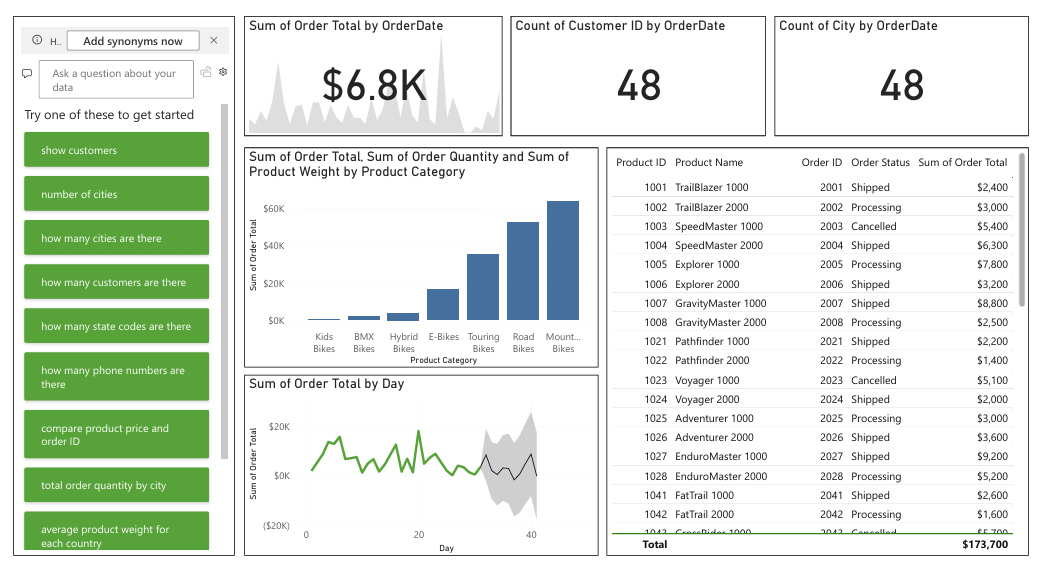

Layout of this report page (visuals, bound fields, positions):
{"tool":"powerbi","page":{"name":"Executive Sales Overview","canvas":[1280,720],"ordinal":0},"visuals":[{"type":"tableEx","fields":{"Values":["Sales.Product ID","Sales.Product Name","Sales.Order ID","Sales.Order Status","Sum(Sales.Order Total)"]},"box":[741.8,199.6,528.5,510.6],"z":0},{"type":"clusteredColumnChart","fields":{"Category":["Sales.Product Category"],"Y":["Sum(Sales.Order Total)"]},"box":[289,199.6,443.2,275.3],"z":1000},{"type":"lineChart","fields":{"Y":["Sum(Sales.Order Total)"],"Category":["Sales.OrderDate.Variation.Date Hierarchy.Day"]},"box":[289,484.5,443.2,225.7],"z":2000},{"type":"kpi","fields":{"Indicator":["Sum(Sales.Order Total)"],"TrendLine":["Sales.OrderDate"]},"box":[289,35.8,323.4,150],"z":3000},{"type":"kpi","fields":{"TrendLine":["Sales.OrderDate"],"Indicator":["CountNonNull(Customers.Customer ID)"]},"box":[622.1,35.8,319.3,150],"z":4000},{"type":"kpi","fields":{"Indicator":["CountNonNull(Customers.City)"],"TrendLine":["Sales.OrderDate"]},"box":[952.4,35.8,317.9,150],"z":5000},{"type":"qnaVisual","box":[0,35.8,276.6,674.4],"z":6000}]}

Visuals, with their boxes in screenshot pixels (x1, y1, x2, y2):
tableEx - Sales.Product ID x Sales.Product Name: select_region(606, 142, 1032, 553)
clusteredColumnChart - Sales.Product Category x Sum(Sales.Order Total): select_region(241, 142, 598, 364)
lineChart - Sum(Sales.Order Total) x Sales.OrderDate.Variation.Date Hierarchy.Day: select_region(241, 371, 598, 553)
kpi - Sum(Sales.Order Total) x Sales.OrderDate: select_region(241, 10, 502, 131)
kpi - Sales.OrderDate x CountNonNull(Customers.Customer ID): select_region(510, 10, 767, 131)
kpi - CountNonNull(Customers.City) x Sales.OrderDate: select_region(776, 10, 1032, 131)
qnaVisual: select_region(8, 10, 231, 553)
